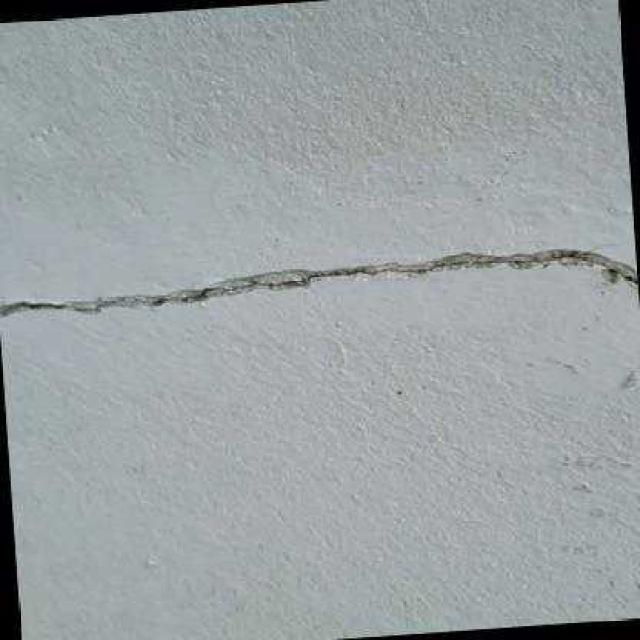D00: (1, 254, 638, 313)
